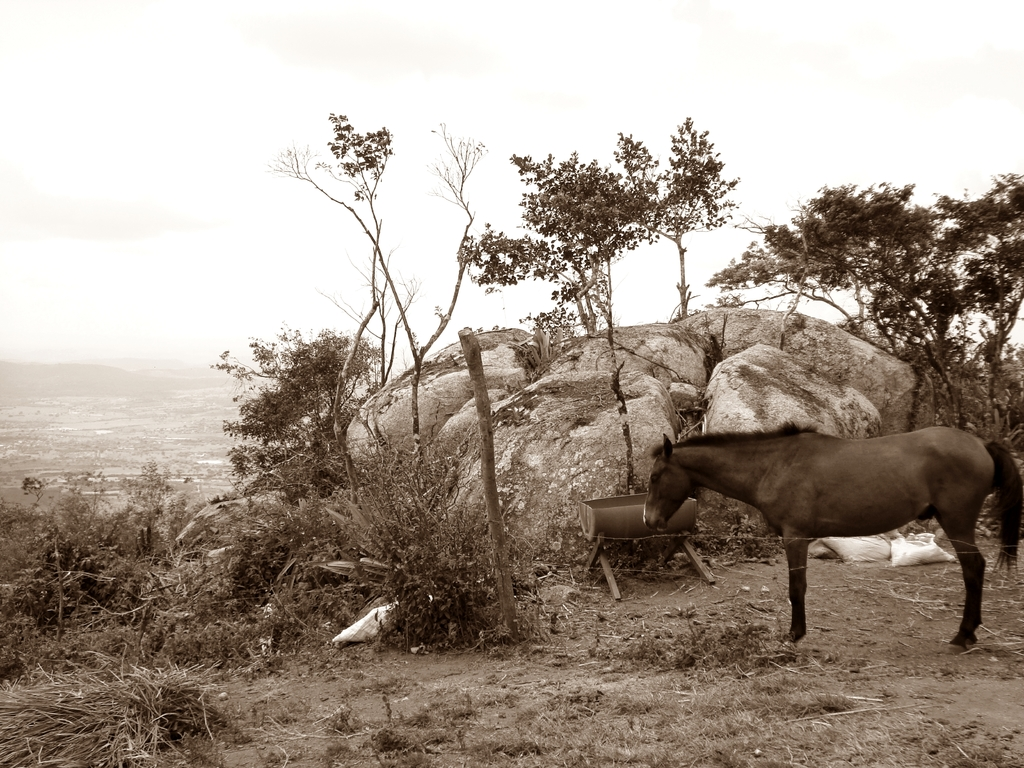horse: (645, 428, 1023, 645)
